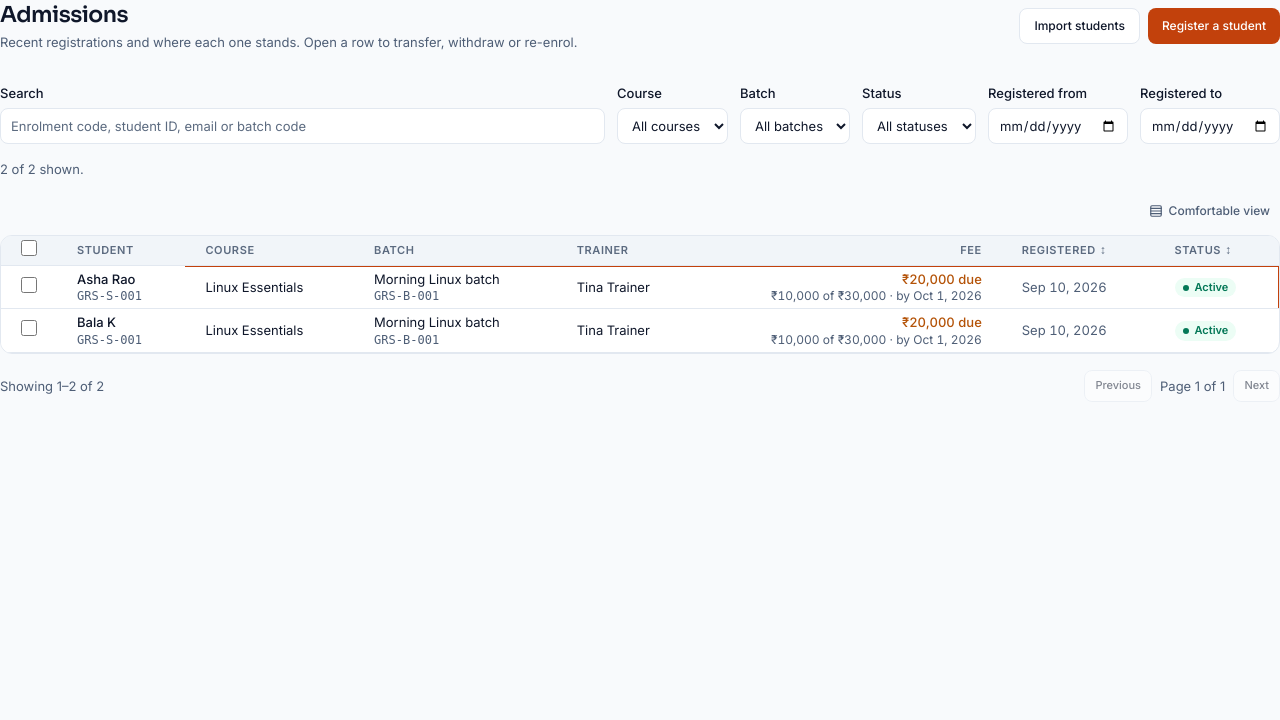
Test: AdmissionsPage — acting on many enrolments › moves the ticked enrolments to another batch with a reason, and exports them
The image size is (1280, 720).
Expected: the link "Bala K" is shown, [77,314,116,330]
Click the checkbox named "Select Asha Rao on GRS-B-001": {"x": 29, "y": 285} [21,277,37,293]
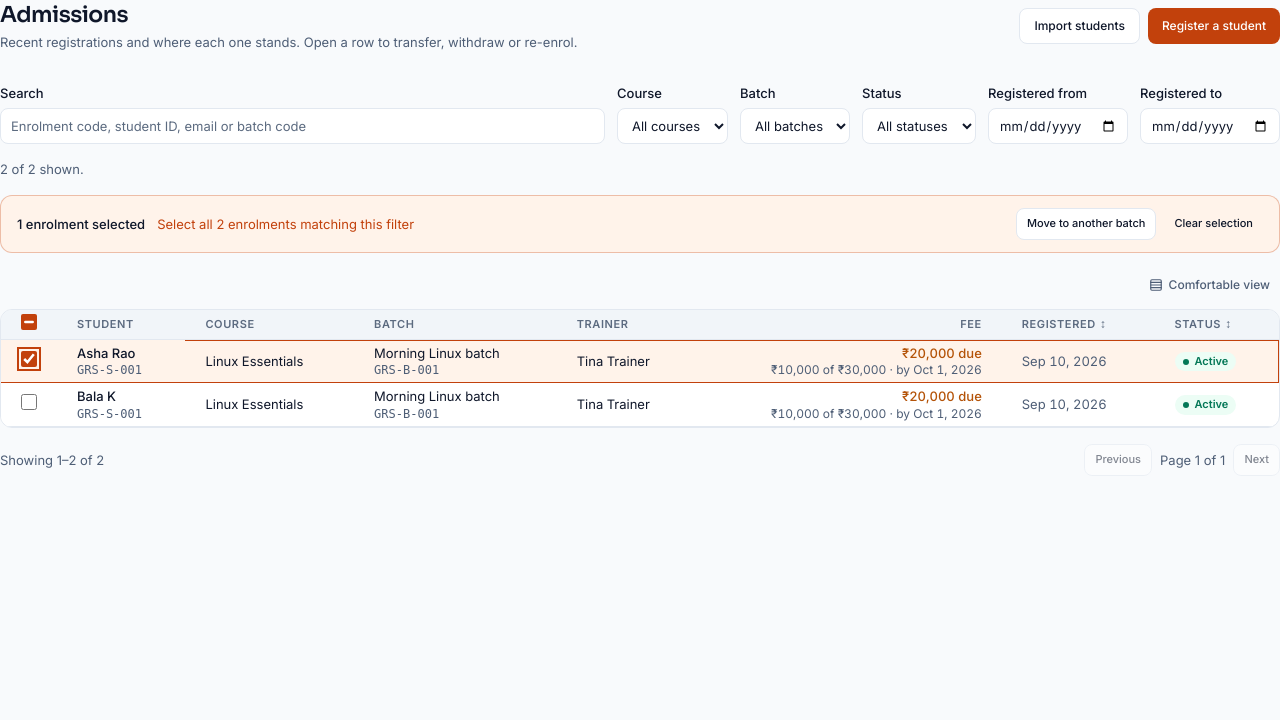
Click the checkbox named "Select Bala K on GRS-B-001": {"x": 29, "y": 402} [21,394,37,410]
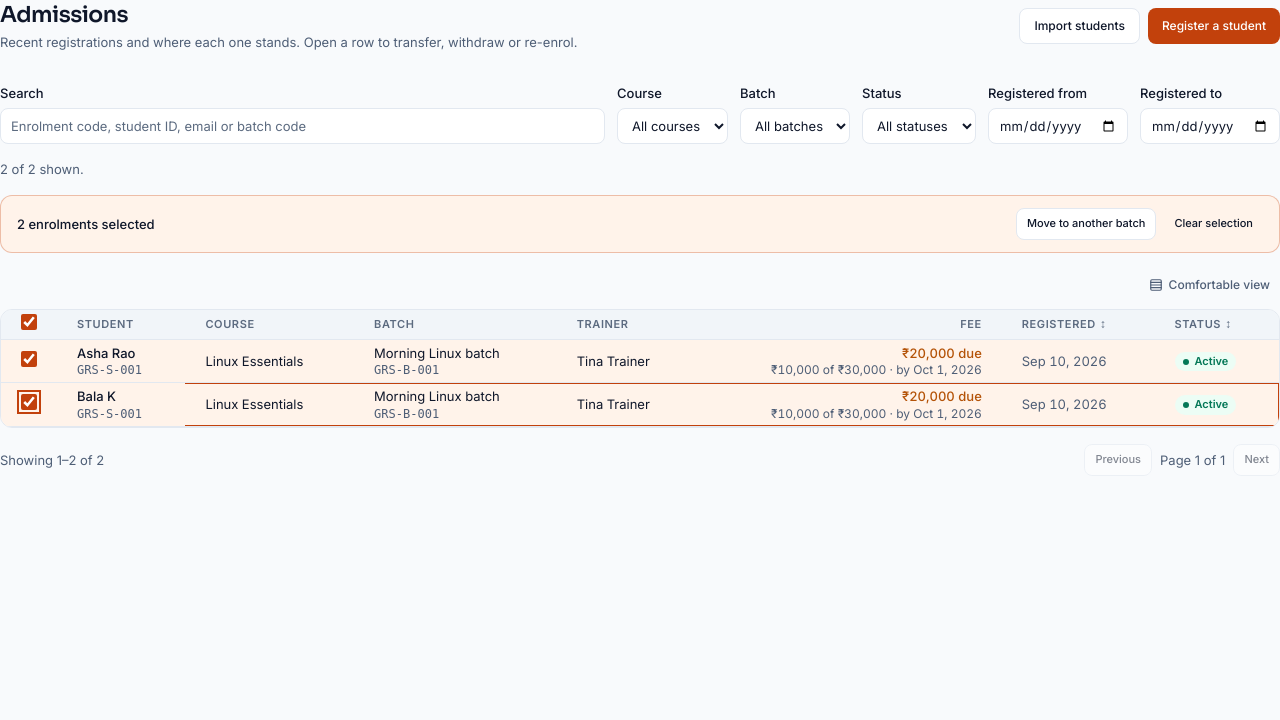
Click the button "Move to another batch": {"x": 1086, "y": 224} [1016,208,1156,240]
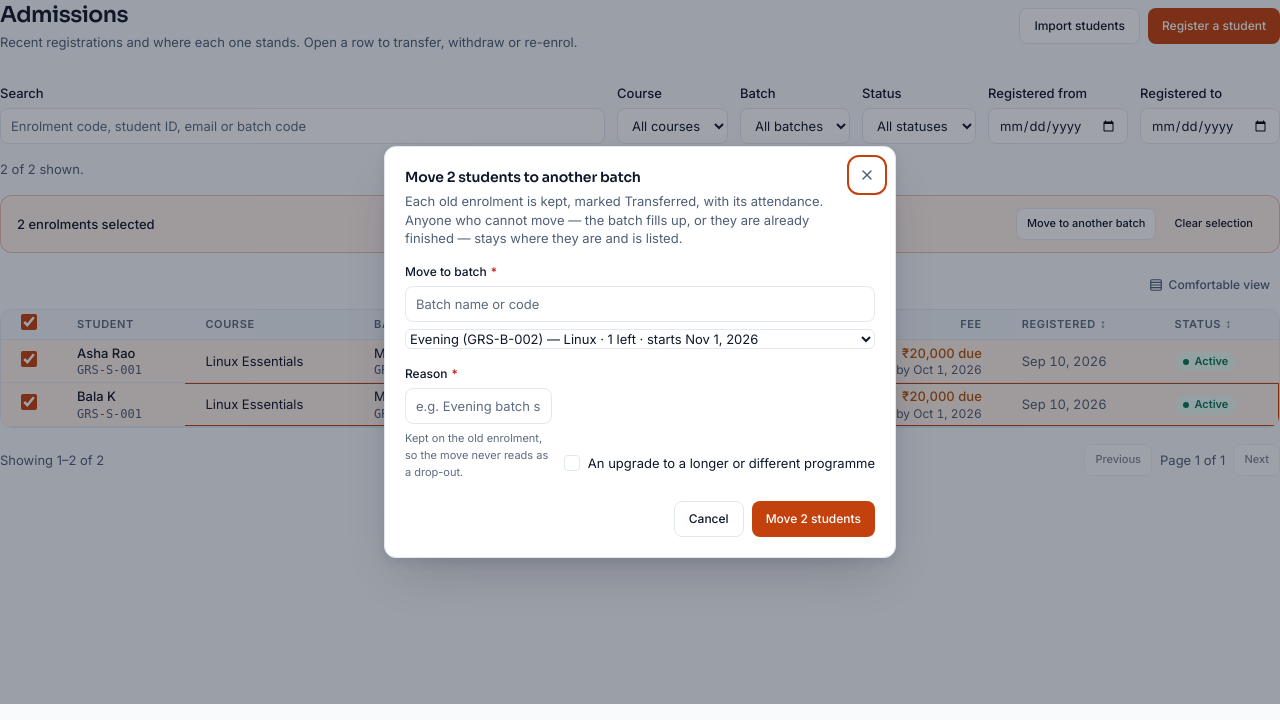
Select "Evening (GRS-B-002) — Linux · 1 left · starts Nov 1, 2026" in the dropdown named "Move to batch results": {"x": 640, "y": 339} [405,329,875,349]
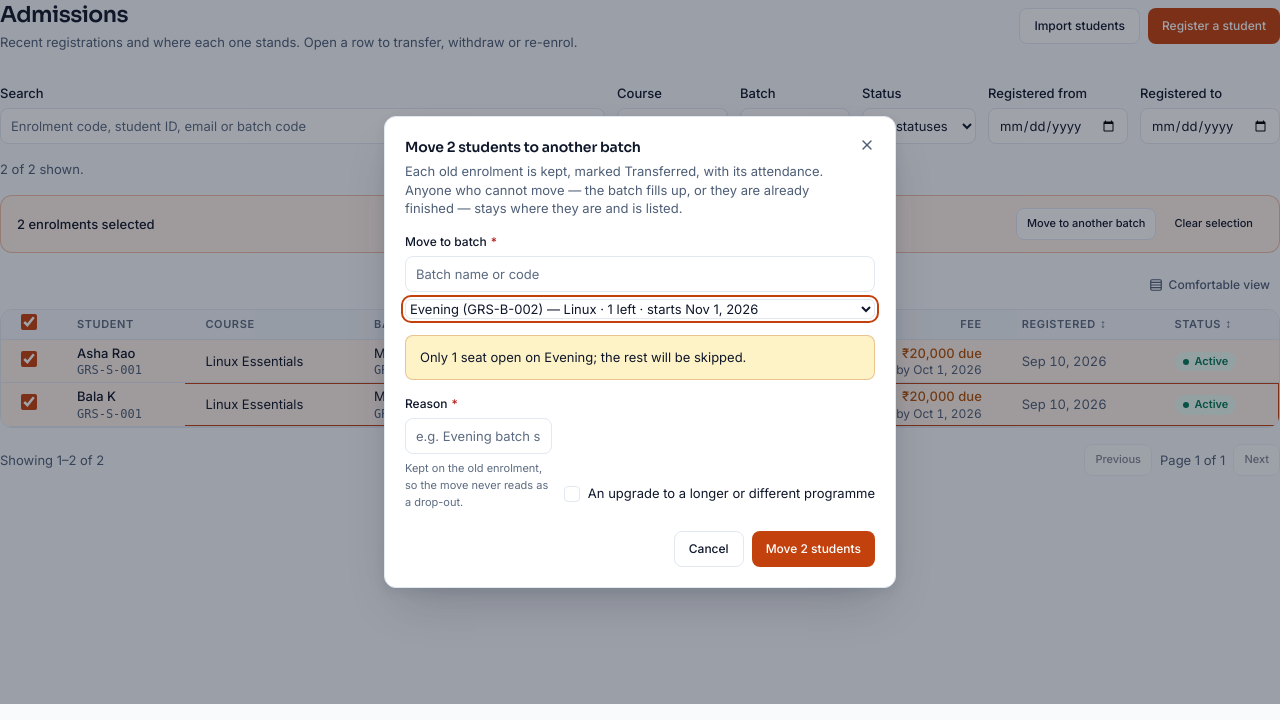
Result: the dialog "Move 2 students to another batch" shows "Only 1 seat open on Evening" at [384,116,896,588]
In the field labelled "Reason*": {"x": 478, "y": 436} [405,418,552,454], type "Merged batches"
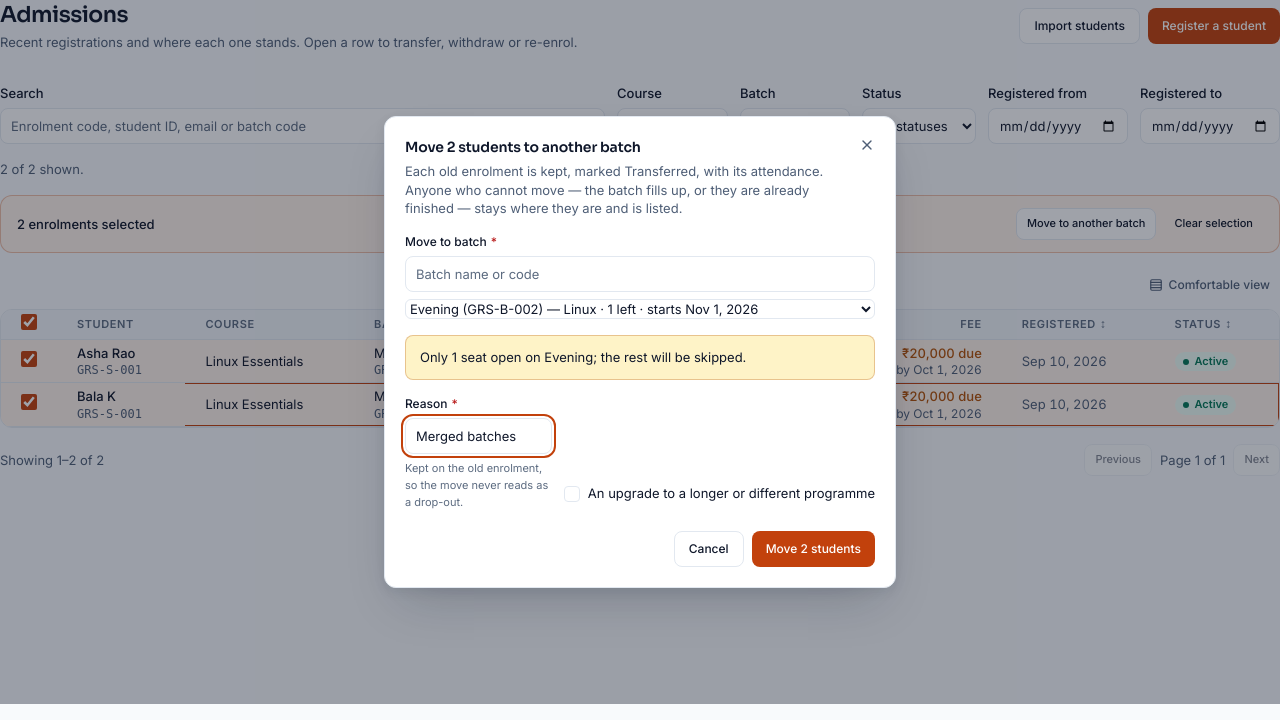
Click the button "Move 2 students": {"x": 813, "y": 549} [752,531,875,567]
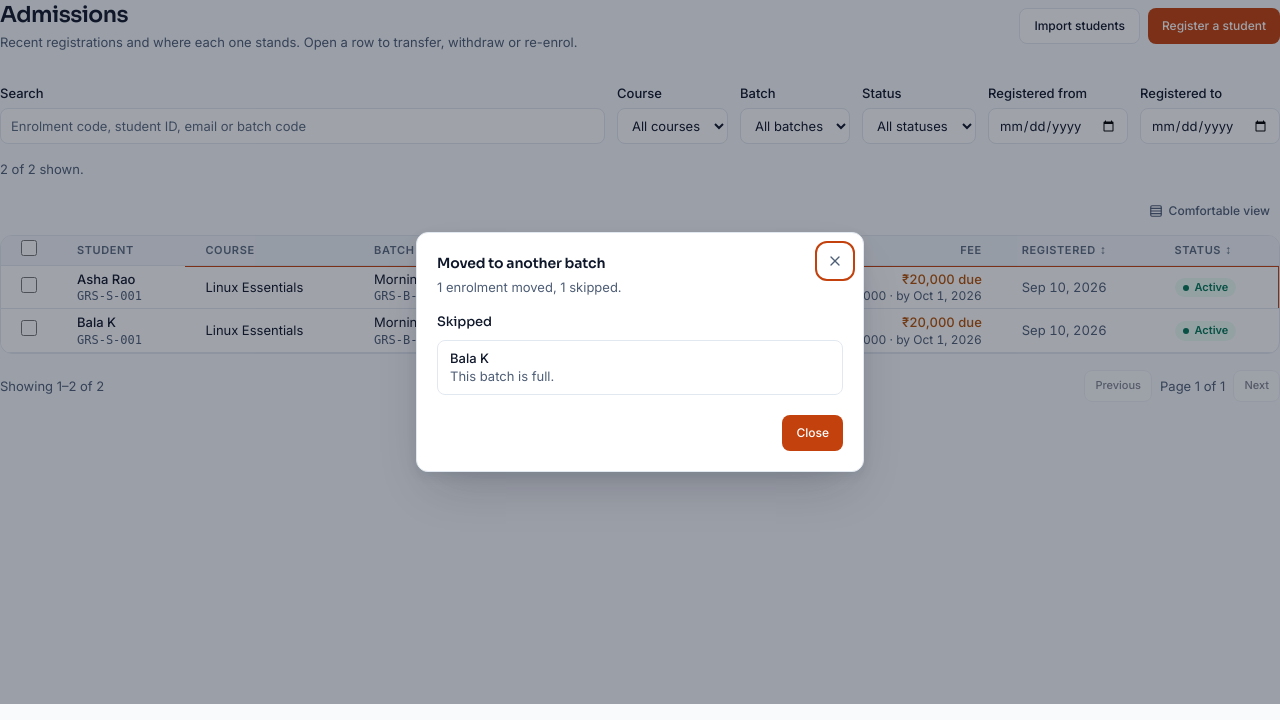
Result: the dialog "Moved to another batch" shows "1 enrolment moved, 1 skipped" at [437,279,622,295]
Result: the dialog "Moved to another batch" shows "This batch is full." at [450,368,554,384]
